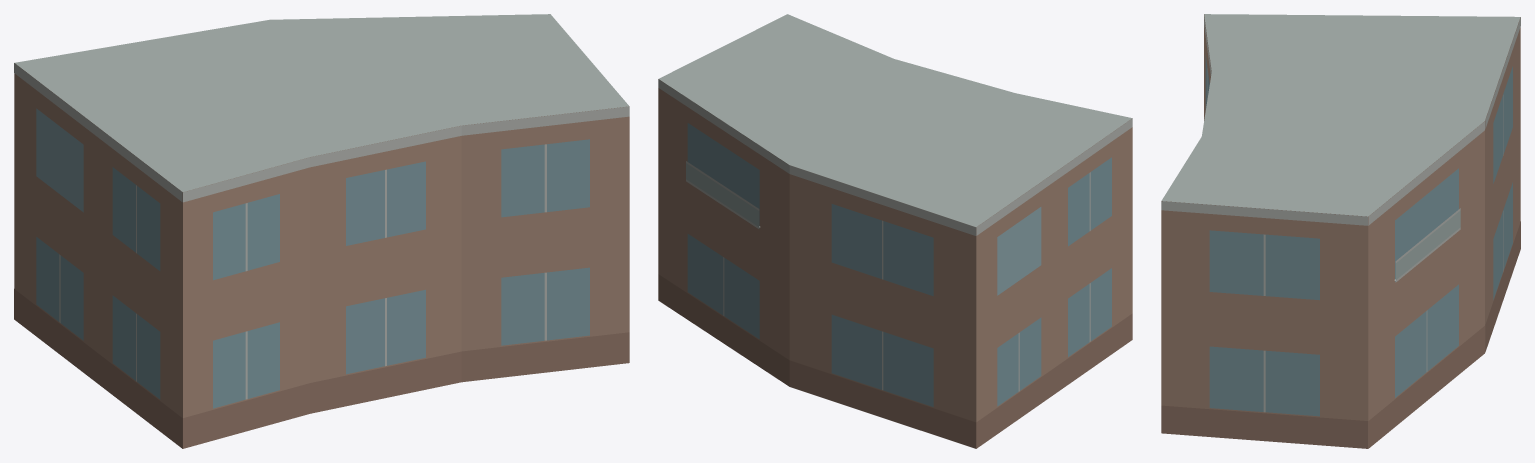
The model's file is survey-upis-32799570.glb.
3 views of the same model, side by side, from view 1: azimuth 30°, elevation 25°; view 2: azimuth 150°, elevation 25°; view 3: azimuth 270°, elevation 25° (orthographic). The views are drawn at different scales.
Parts seen in each view (by area): view 1: survey-upis-32799570.tmp; view 2: survey-upis-32799570.tmp; view 3: survey-upis-32799570.tmp.
Part boxes in pixels (<box>): survey-upis-32799570.tmp: <box>14,14,629,448</box>; survey-upis-32799570.tmp: <box>658,14,1132,448</box>; survey-upis-32799570.tmp: <box>1161,14,1520,448</box>.
Size of the model in its own units: 11.42 by 6.1 by 8.56.
